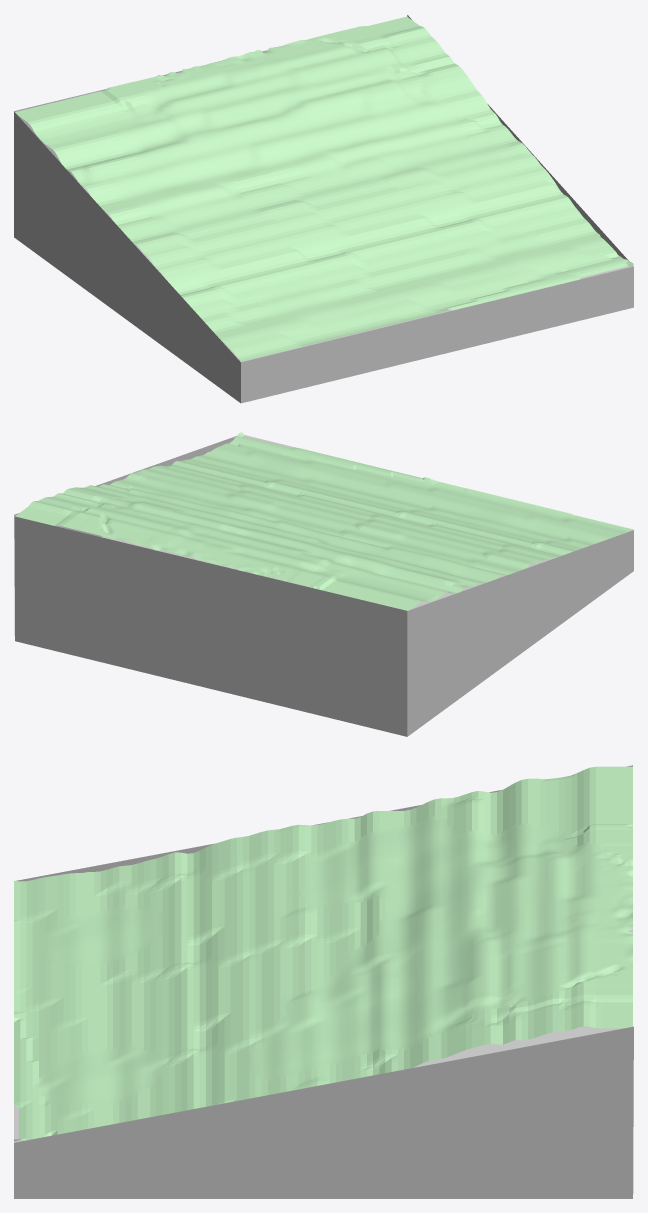
The model's file is map5.dae.
3 renders of one model, top to bottom at view 1: azimuth 30°, elevation 25°; view 2: azimuth 150°, elevation 25°; view 3: azimuth 270°, elevation 25°, orthographic. The views are drawn at different scales.
Parts seen in each view (by area): view 1: group_0, SketchUp; view 2: SketchUp, group_0; view 3: group_0, SketchUp.
Boxes of the visible parts, left/top/right/bottom form: group_0: left=15, top=16, right=633, bottom=361; SketchUp: left=14, top=15, right=633, bottom=403; SketchUp: left=14, top=435, right=633, bottom=736; group_0: left=15, top=432, right=633, bottom=610; group_0: left=14, top=766, right=632, bottom=1140; SketchUp: left=14, top=765, right=633, bottom=1198.
Size of the model in its own units: 20.03 by 20.03 by 6.24.
